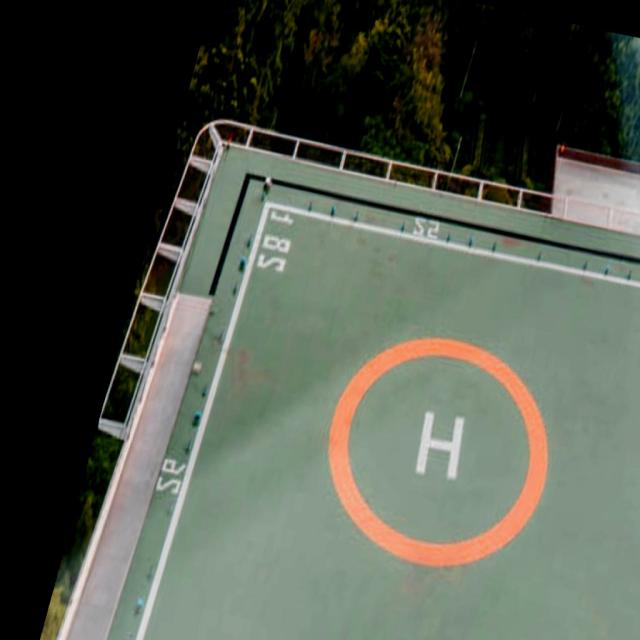helipad: (320, 330, 551, 572)
